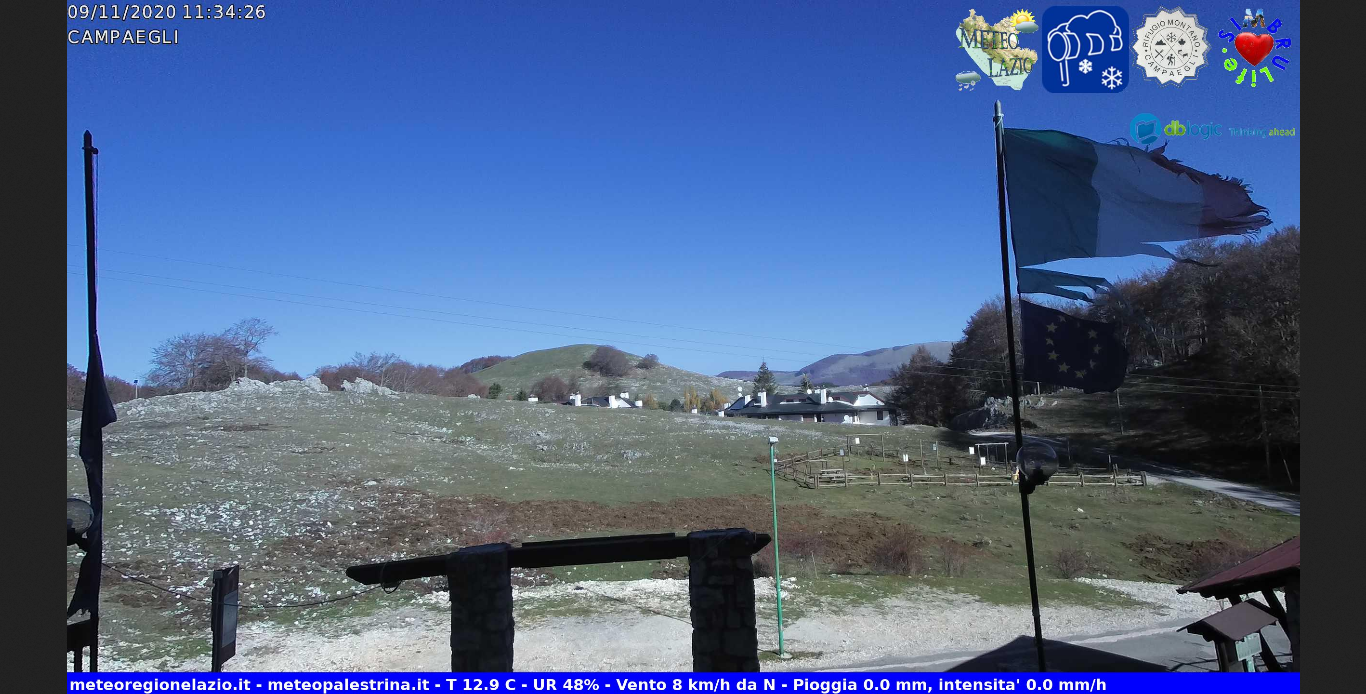yes: (989, 106, 1293, 266), (997, 286, 1145, 396)
